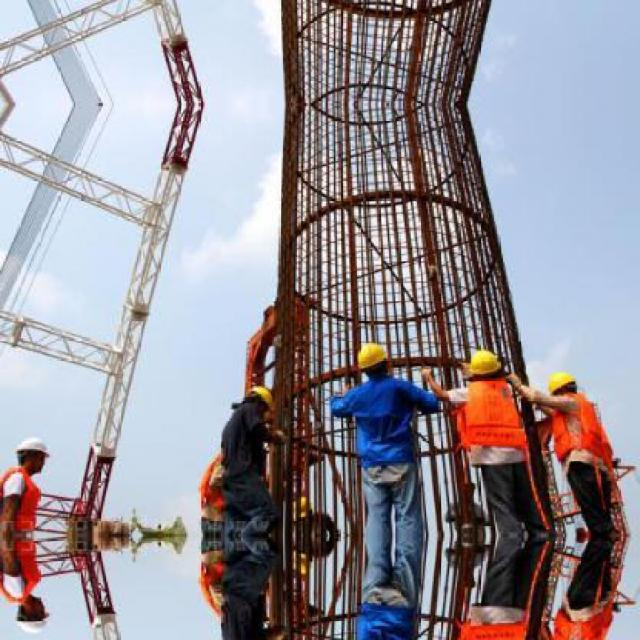Reflective-Jacket: (349, 377, 425, 472), (456, 380, 530, 463), (548, 394, 617, 468), (0, 466, 45, 579)
Safety-Helmet: (458, 342, 512, 383), (351, 337, 395, 375), (542, 366, 583, 399), (11, 432, 54, 462), (246, 383, 277, 411)
